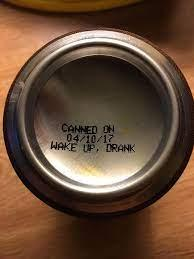metal: (9, 31, 194, 214)
